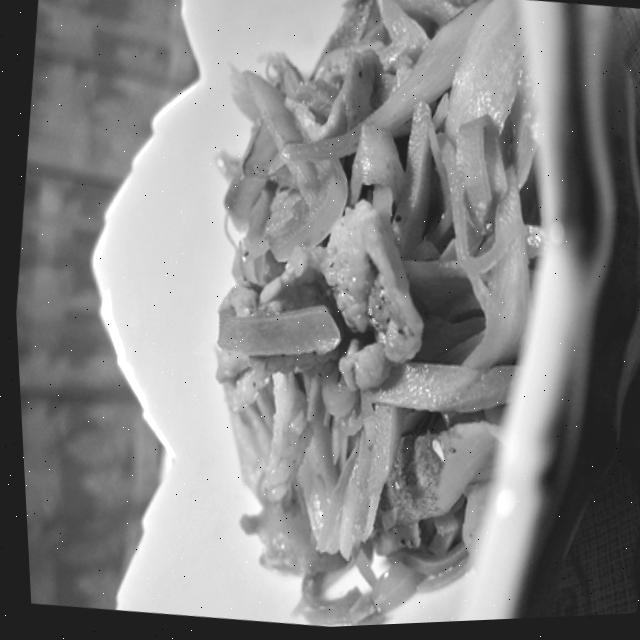蔬菜料理: (141, 0, 600, 635)
